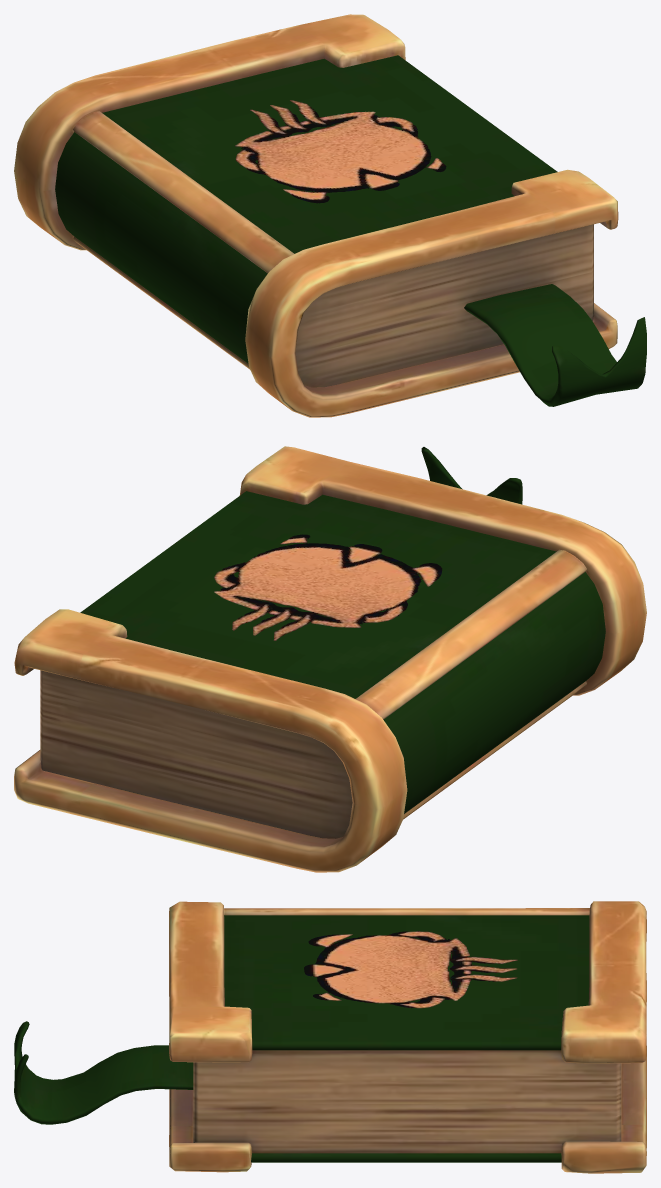
3 renders of one model, top to bottom at view 1: azimuth 30°, elevation 25°; view 2: azimuth 150°, elevation 25°; view 3: azimuth 270°, elevation 25°, orthographic. The views are drawn at different scales.
Visible parts, largest first — view 1: SM_Skill_Tome_Cooking_LOD0; view 2: SM_Skill_Tome_Cooking_LOD0; view 3: SM_Skill_Tome_Cooking_LOD0.
Part boxes in pixels (bbox=[...]): SM_Skill_Tome_Cooking_LOD0: bbox=[14, 14, 646, 417]; SM_Skill_Tome_Cooking_LOD0: bbox=[14, 446, 646, 872]; SM_Skill_Tome_Cooking_LOD0: bbox=[14, 901, 646, 1173].
Bounding box in the file's own units: 0.2949 × 0.1242 × 0.5018.
2 materials, 2 textured.
